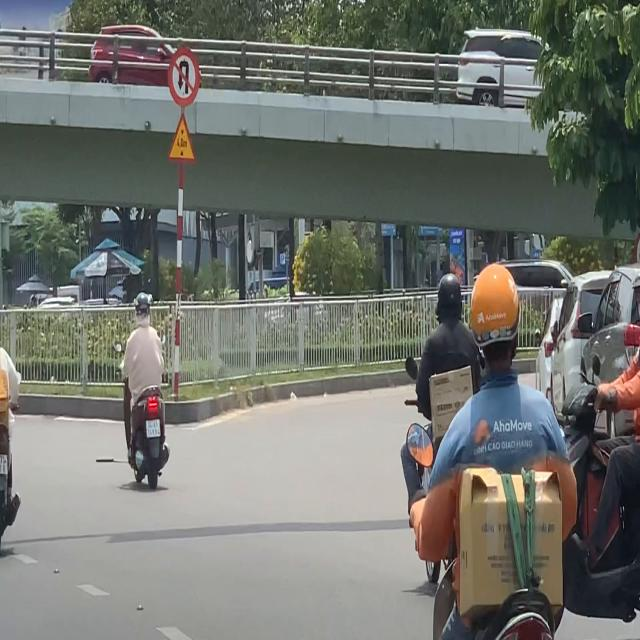Cam quay dau xe: (168, 48, 199, 108)
Nguy hiem: (166, 112, 197, 165)
